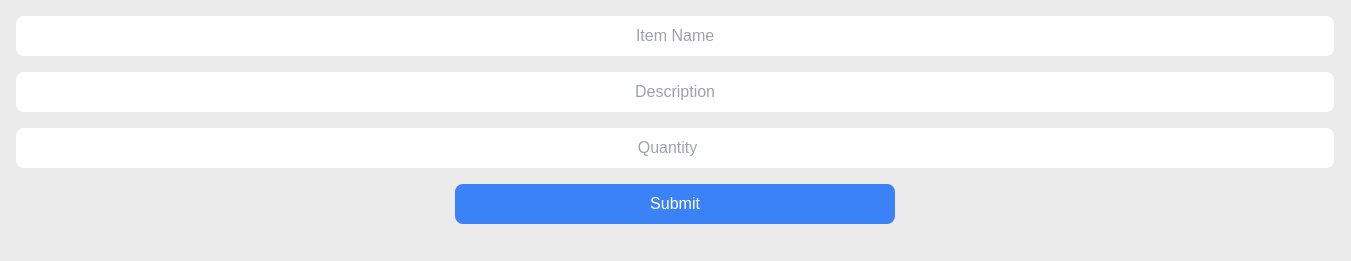
Test: CreateItemForm › should return an error if quantity is 0
Type "Test Item" into the field with placeholder "Item Name". click: (675, 36)
box: [16,16,1334,56]
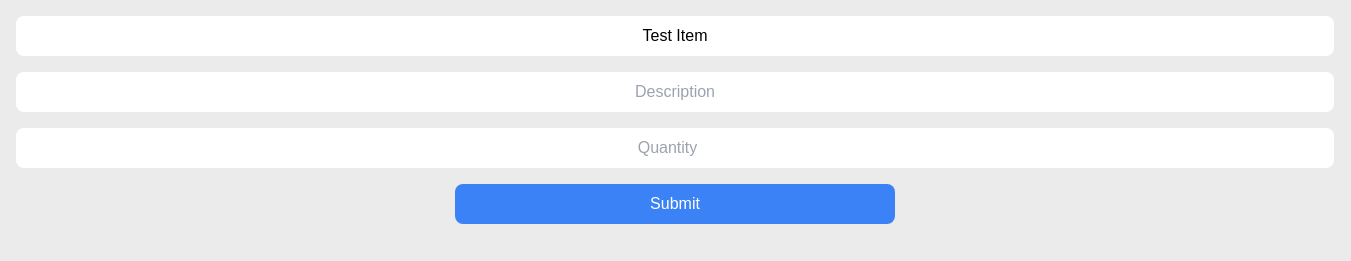
Type "This is a test item" into the field with placeholder "Description". click: (675, 92)
box: [16,72,1334,112]
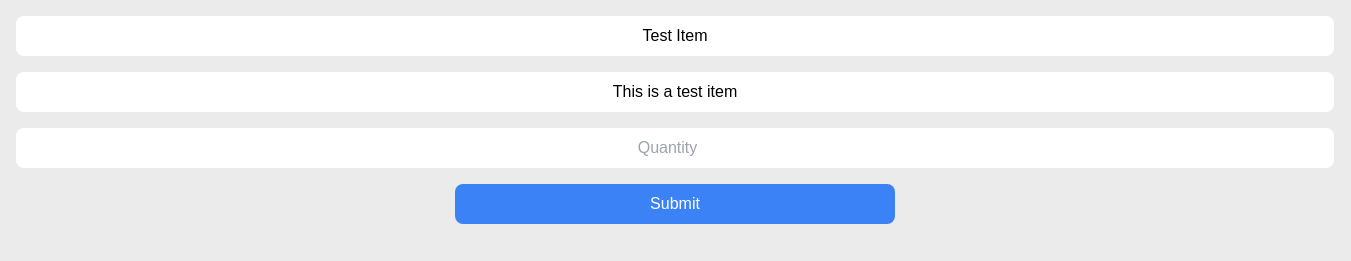
Type "0" into the number field with placeholder "Quantity". click: (675, 148)
box: [16,128,1334,168]
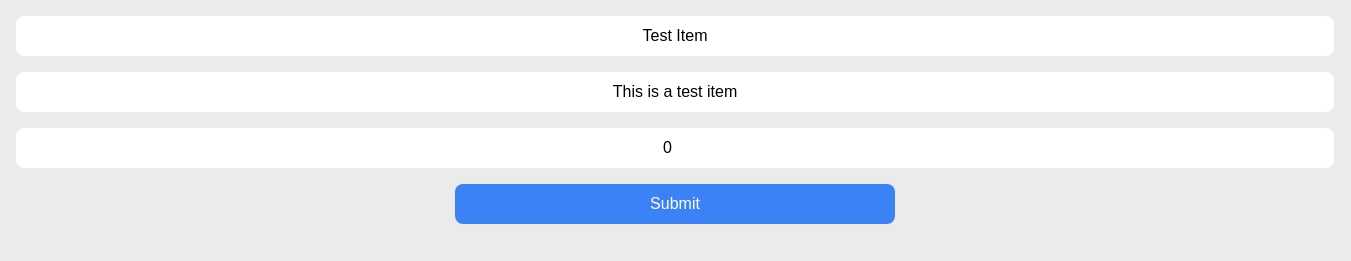
Click the button "Submit". click: click(675, 204)
box: [455,184,895,224]
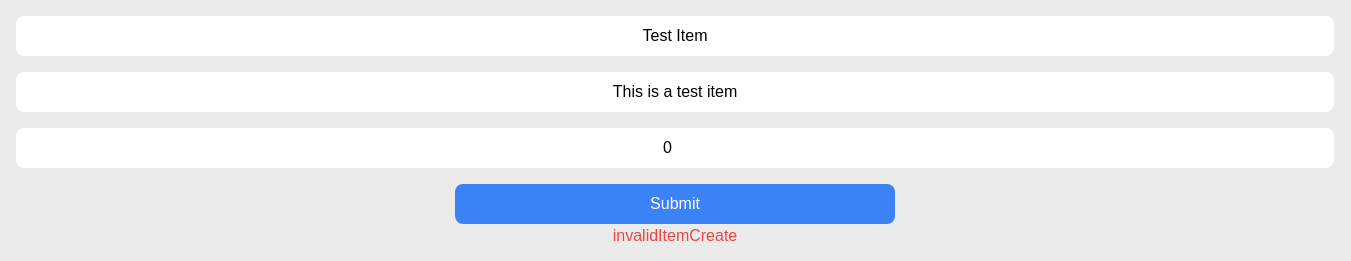
Now the text "invalidItemCreate" is shown, box [613,227,737,244]
